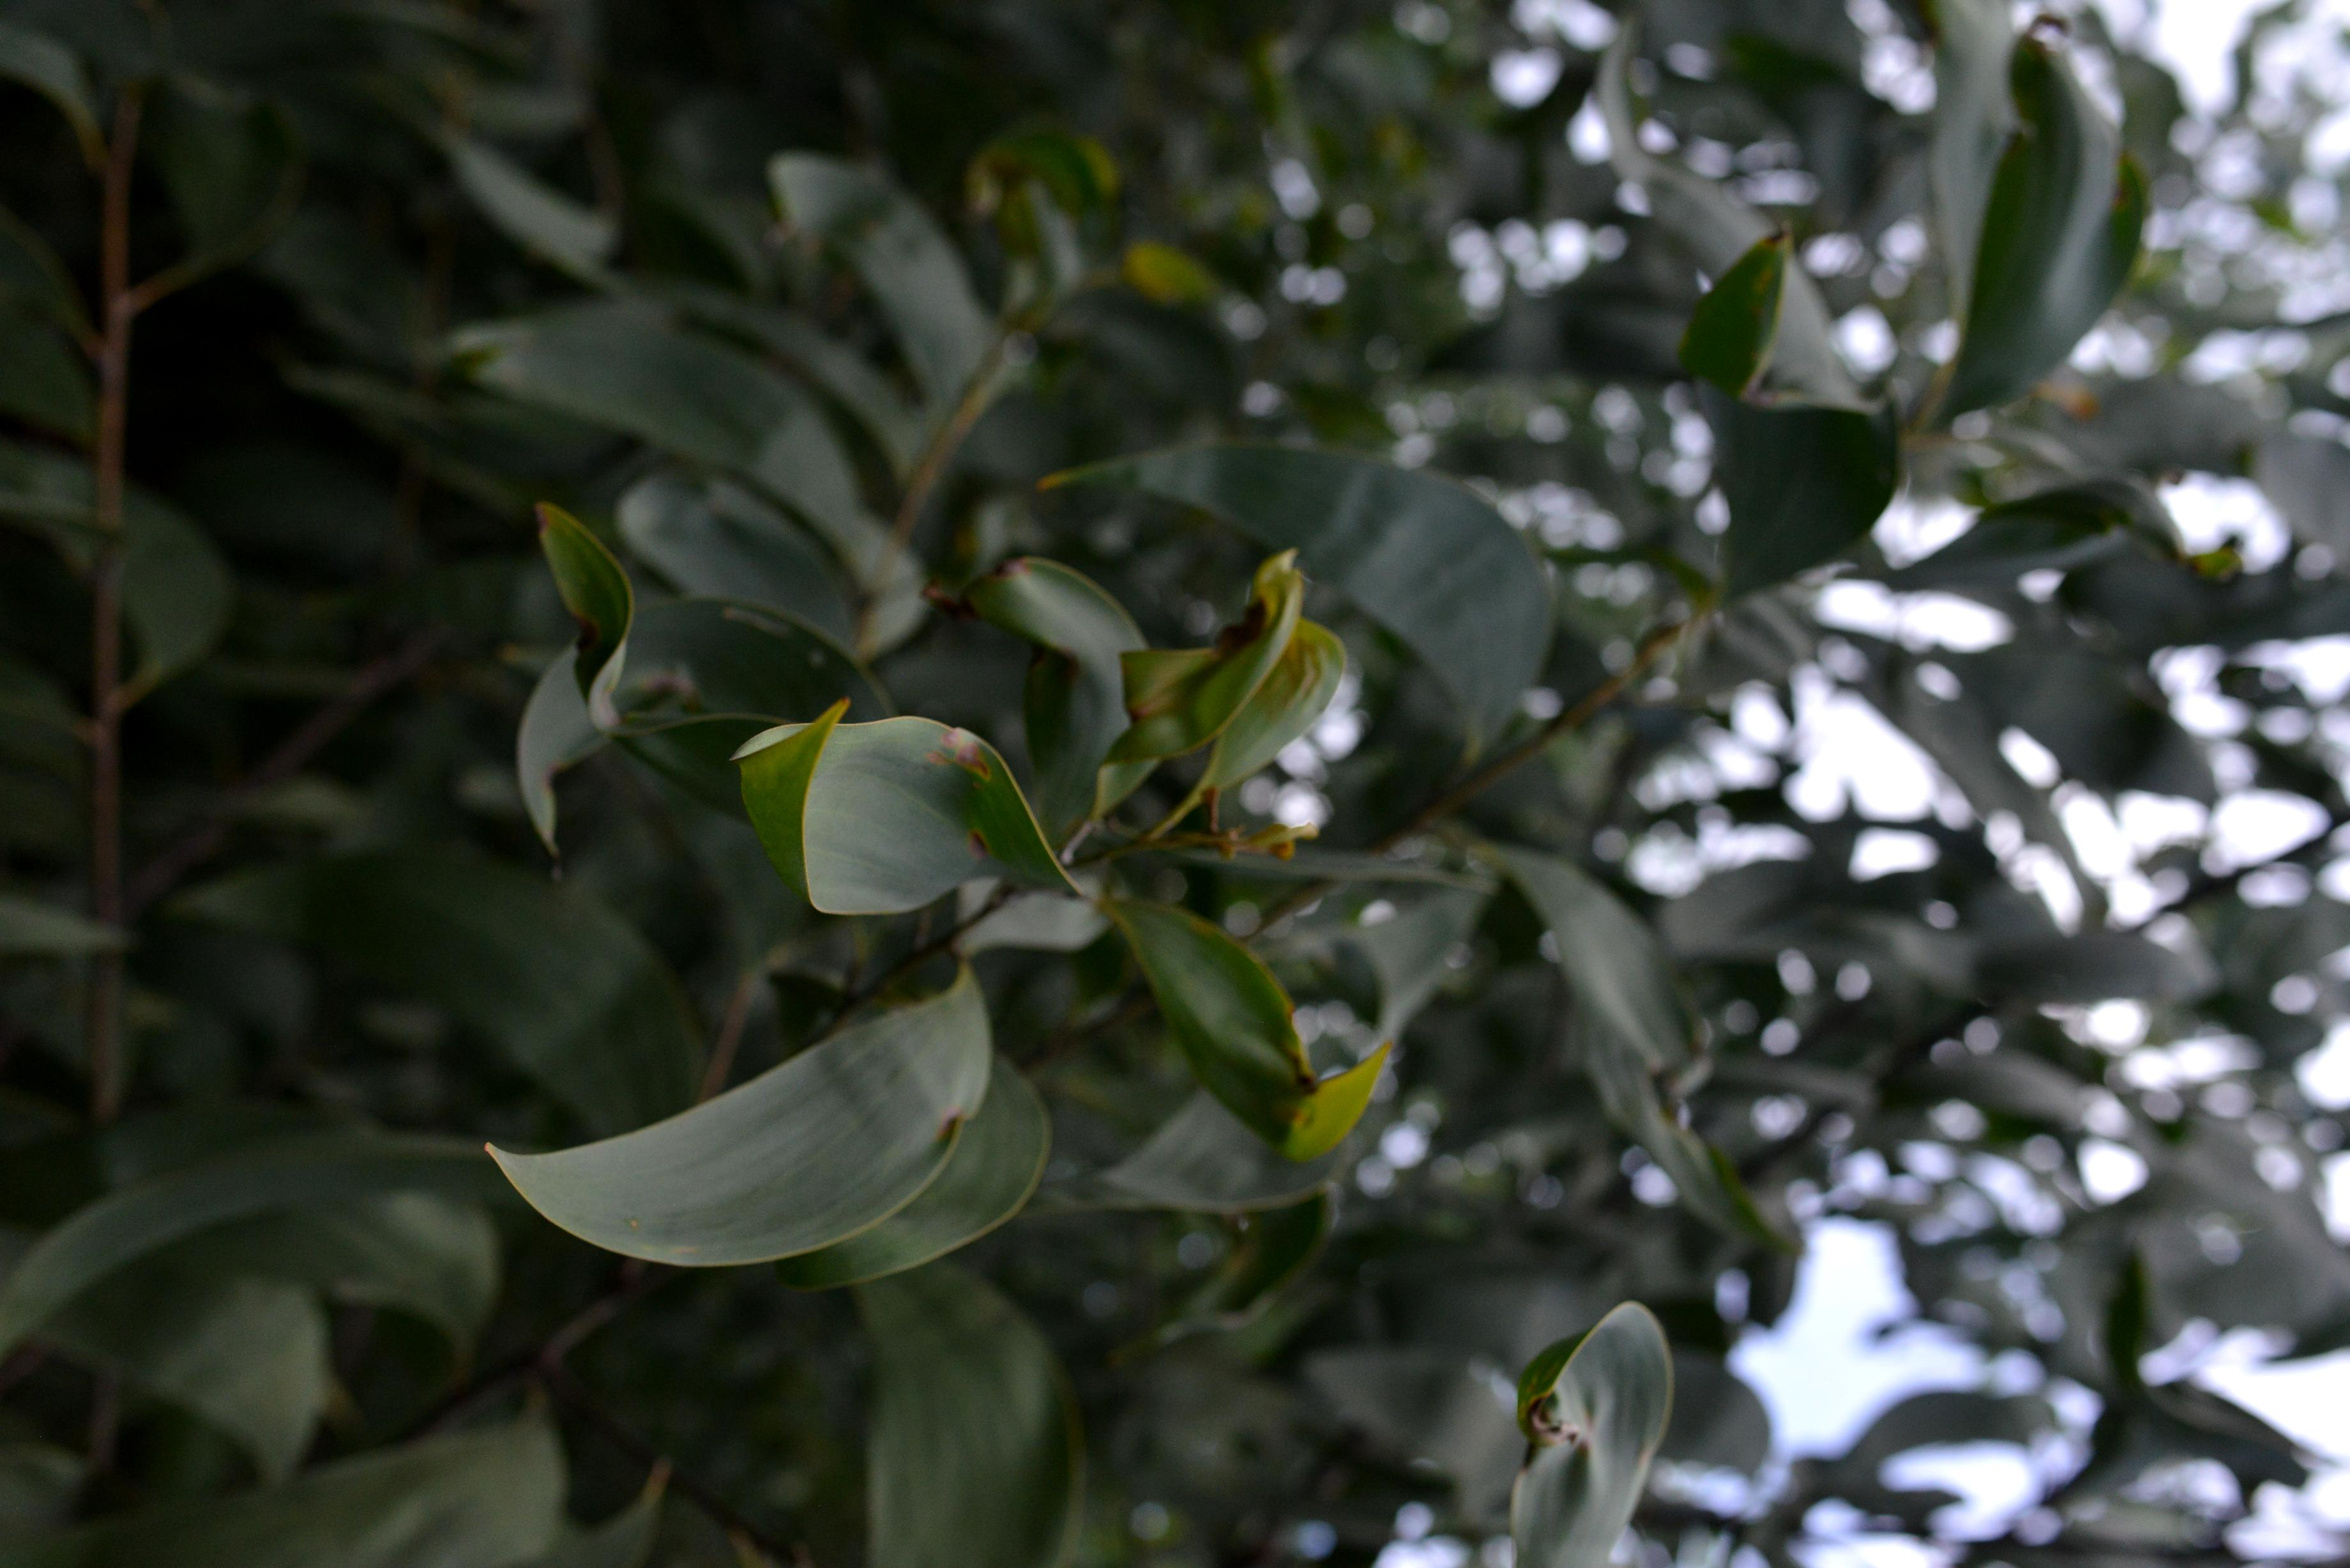Pasalora: (479, 964, 1045, 1274), (1122, 885, 1403, 1157), (1106, 541, 1361, 836), (492, 495, 696, 842), (747, 712, 1081, 924), (1668, 201, 1890, 441), (1865, 474, 2256, 597), (1510, 1281, 1675, 1568)
